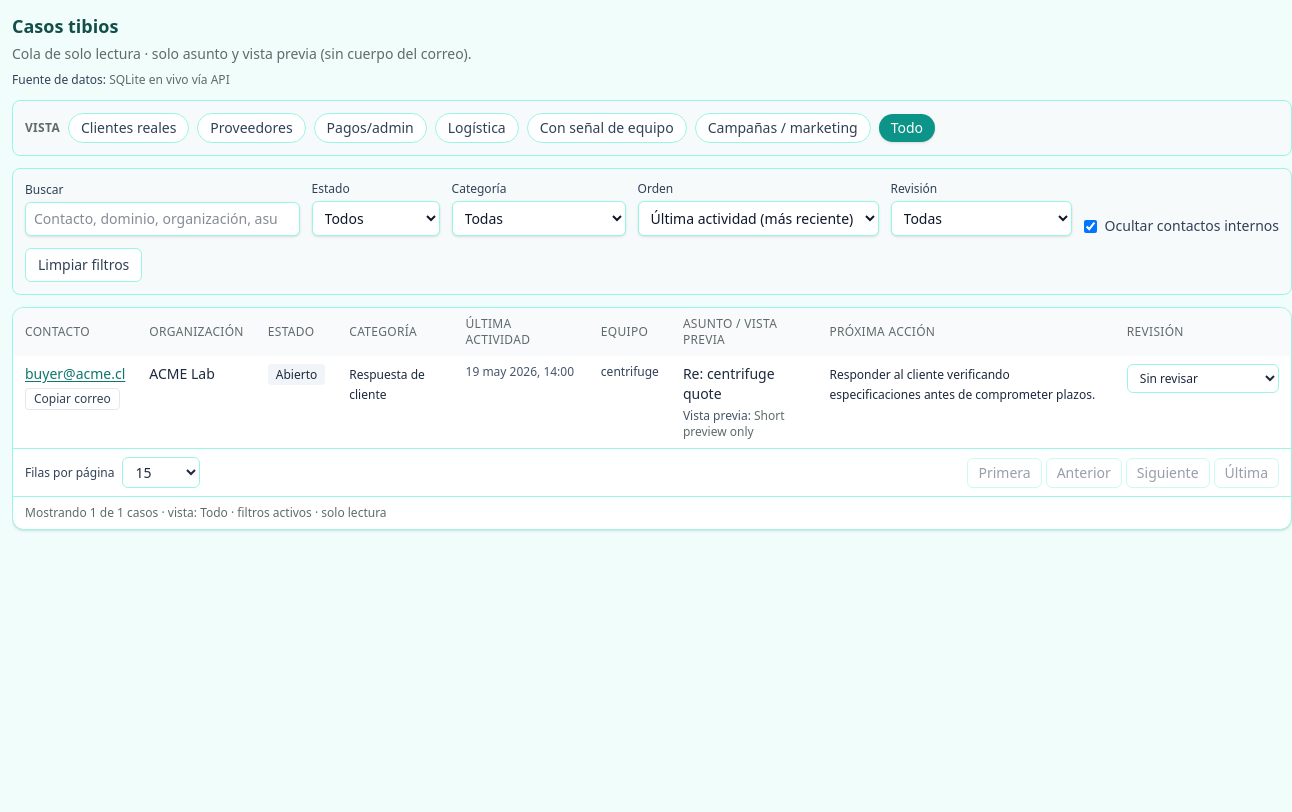
Scenario: WarmCasesTable › hides internal contacts by default; toggle shows them
Check: the text "contacto@origenlab.cl" is not shown
Check: the button "buyer@acme.cl" is shown, box x1=25 y1=364 x2=125 y2=384
Click the checkbox named "Ocultar contactos internos de OrigenLab": (1090, 226) x1=1084 y1=220 x2=1097 y2=232
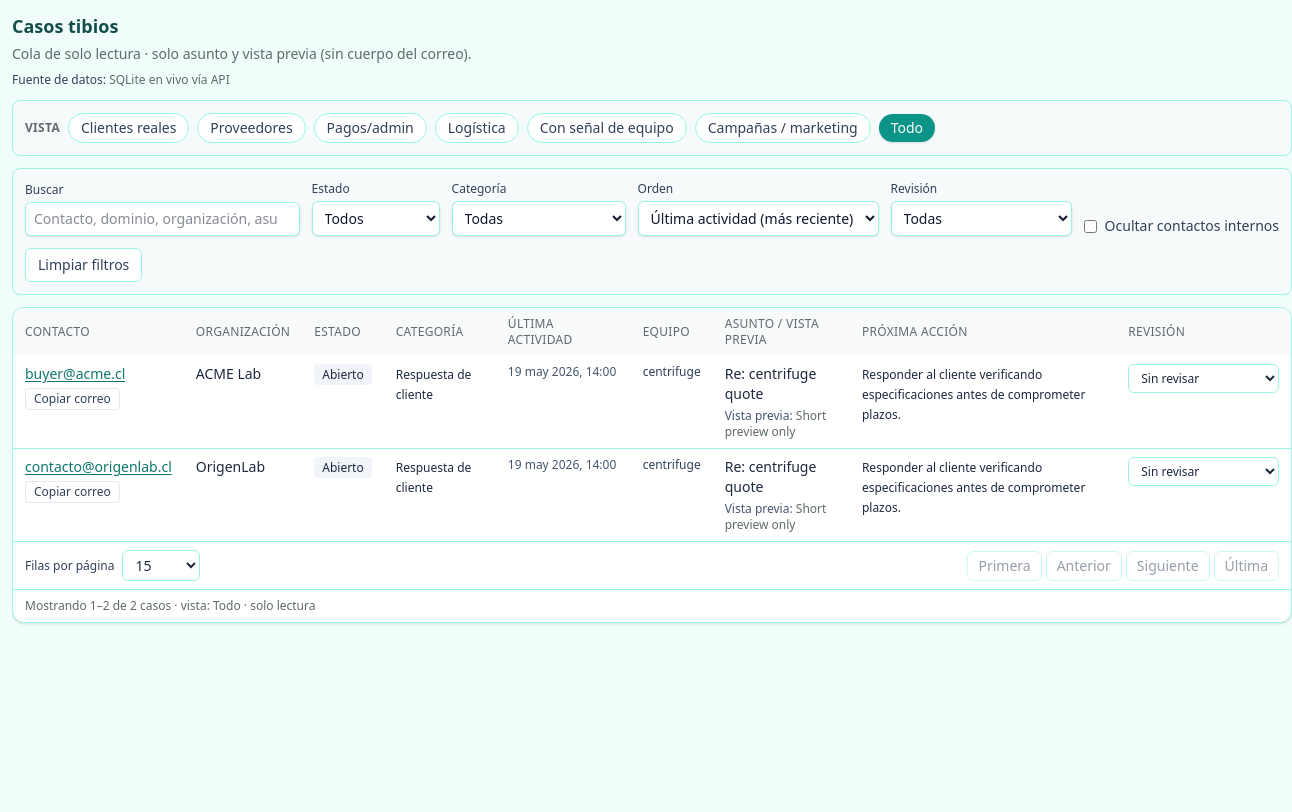
Check: the button "contacto@origenlab.cl" is shown, box x1=25 y1=457 x2=172 y2=477
Check: the text "Mostrando 1–2 de 2 casos · vista: Todo · solo lectura" is shown, box x1=13 y1=589 x2=1291 y2=622
